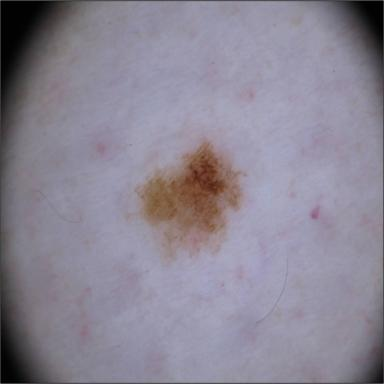nevus: (135, 141, 245, 261)
